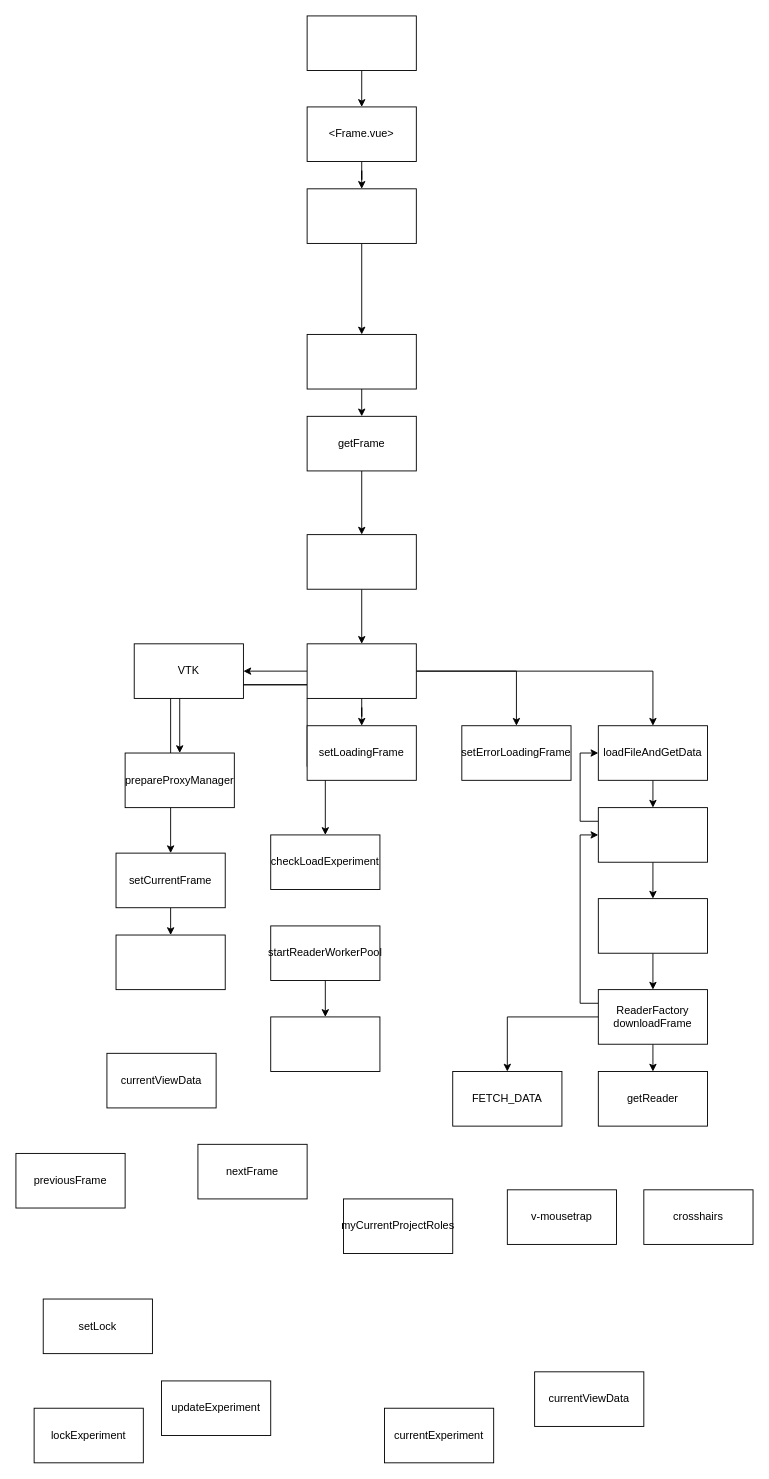
This 769x1479 diagram has some shape labels left out. Each missing label, with the box of its shape:
async created(): (306, 188, 416, 243)
Click on Image under Experiments: (306, 15, 416, 71)
django.ts: (597, 898, 708, 953)
loadFile: (597, 807, 708, 862)
mounted(): (306, 534, 416, 589)
poolFunction: (270, 1016, 380, 1072)
setCurrentFrameId: (115, 934, 225, 990)
Vuex Store: (306, 334, 416, 389)
Vuex Store: swapToFrame: (306, 643, 416, 698)
